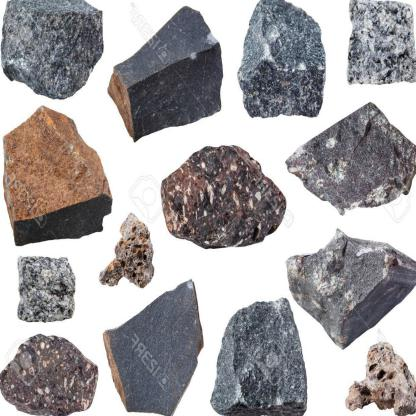Igneous_Basalt: (0, 102, 121, 243), (111, 0, 232, 137), (286, 219, 415, 341), (286, 97, 415, 213), (104, 277, 209, 416), (207, 287, 313, 416), (163, 143, 288, 252), (232, 1, 331, 112), (1, 0, 101, 100), (0, 336, 98, 416), (334, 0, 415, 90), (344, 327, 415, 413), (11, 252, 82, 324), (99, 212, 157, 288)
